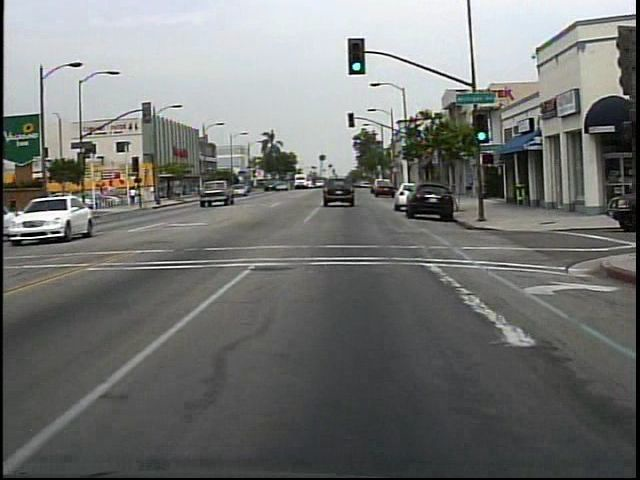person: (131, 183, 137, 206)
